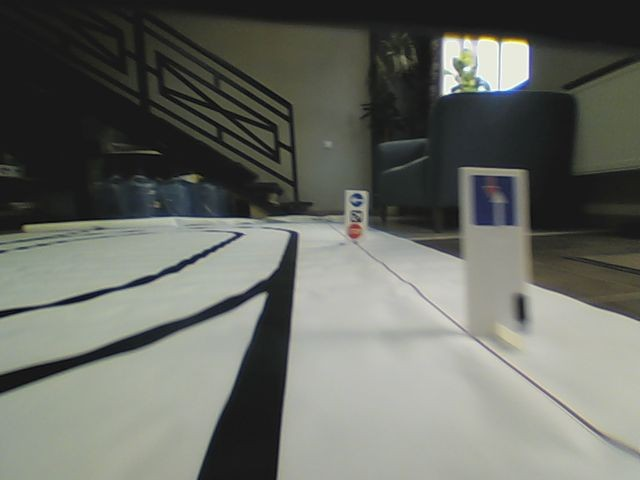priority_movement: (471, 172, 518, 228)
